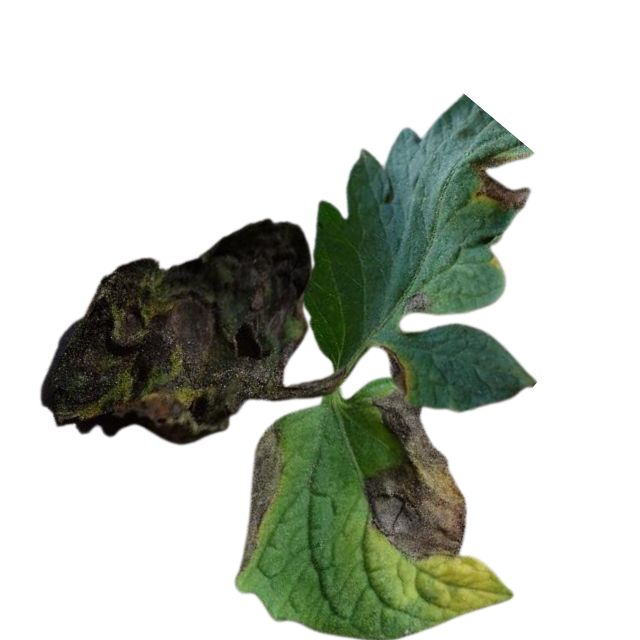Early_blight: (42, 219, 310, 444), (366, 395, 467, 564), (240, 425, 284, 573), (470, 151, 532, 211), (375, 344, 409, 394), (404, 293, 430, 314)
